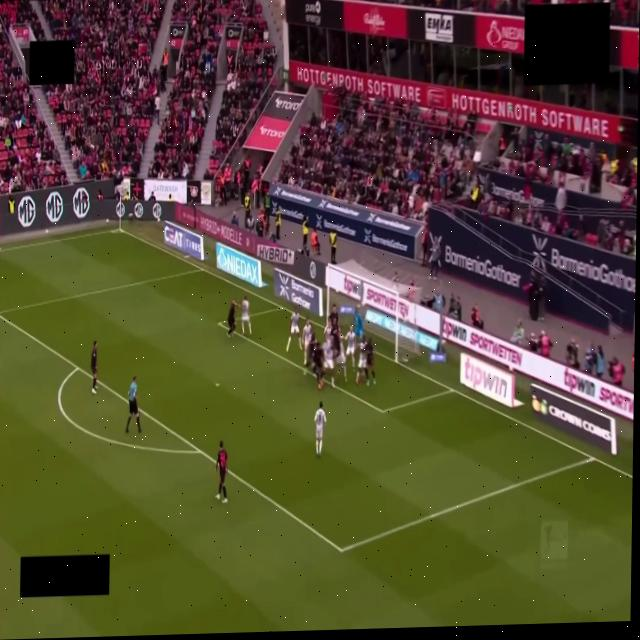player: (216, 441, 227, 503), (323, 336, 336, 387), (334, 326, 346, 381), (315, 401, 326, 456), (287, 308, 300, 351), (345, 325, 357, 370), (312, 342, 323, 389), (304, 332, 316, 375), (356, 338, 367, 384), (365, 339, 375, 386), (302, 320, 312, 366), (240, 297, 251, 335), (227, 300, 237, 336), (91, 341, 97, 394), (331, 324, 340, 358), (355, 305, 363, 341), (329, 304, 338, 327), (324, 319, 331, 340)
referee: (126, 376, 141, 433)
